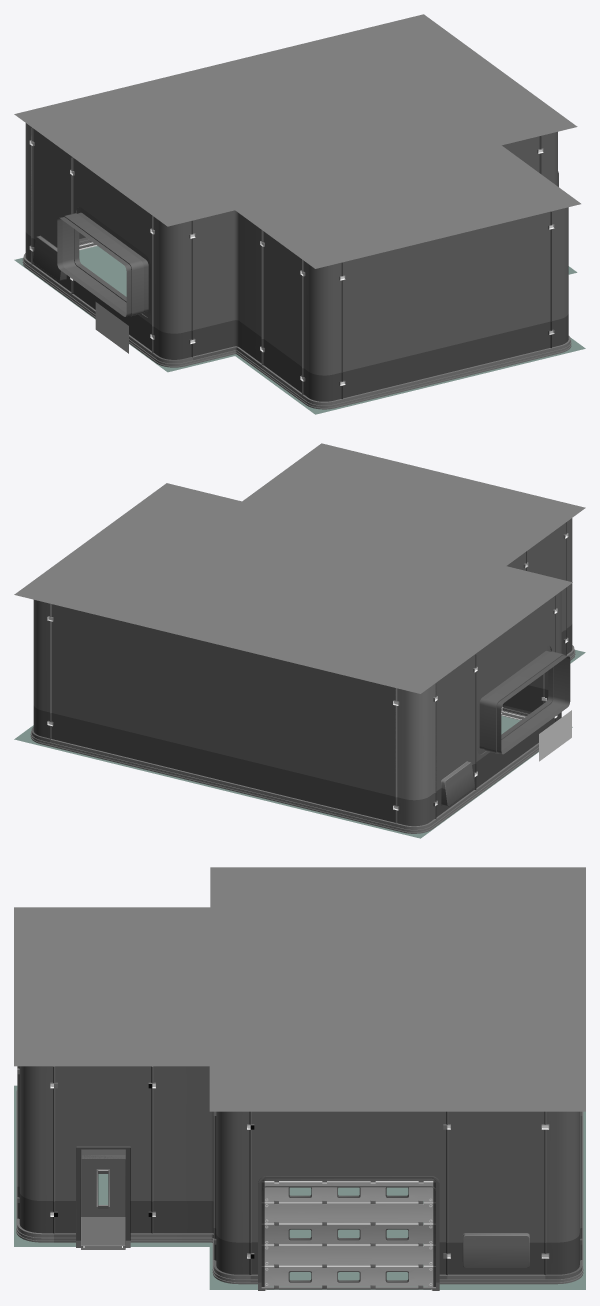
The model's file is Factory.fbx.
The picture shows the model from 3 angles, top to bottom: view 1: azimuth 30°, elevation 25°; view 2: azimuth 150°, elevation 25°; view 3: azimuth 270°, elevation 25°; orthographic projection. The views are drawn at different scales.
Visible parts, largest first — view 1: SM_Factory1001, SM_Factory1002; view 2: SM_Factory1001, SM_Factory1002; view 3: SM_Factory1001, SM_Factory1002.
Part boxes in pixels (x1,y1,x2,y2): SM_Factory1001: [14, 14, 585, 414]; SM_Factory1002: [260, 207, 571, 409]; SM_Factory1001: [14, 443, 585, 838]; SM_Factory1002: [523, 518, 575, 660]; SM_Factory1001: [14, 867, 585, 1290]; SM_Factory1002: [16, 1066, 155, 1249].
Size of what is drawn, in the model's own units: 1241 by 400 by 1164.
